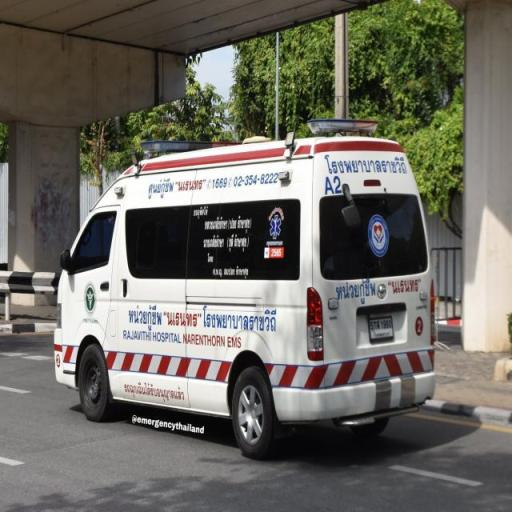Police car: (46, 128, 442, 466)
